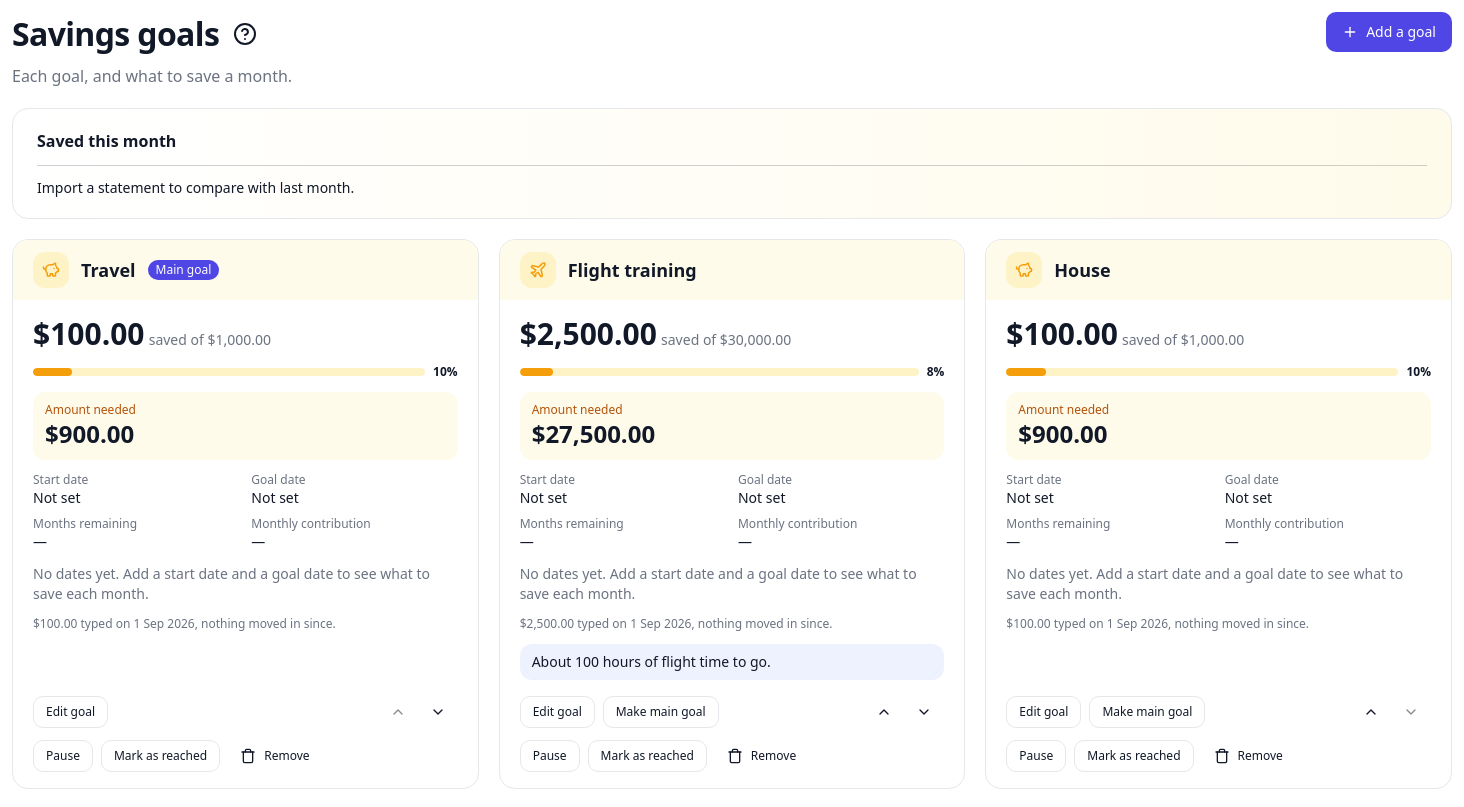
Test case: Savings, choosing the main goal and the order (G1) › makes the last goal the main one, putting it first and the others after it
Click the 2nd button "Make main goal": (1147, 712) x1=1089 y1=696 x2=1205 y2=728
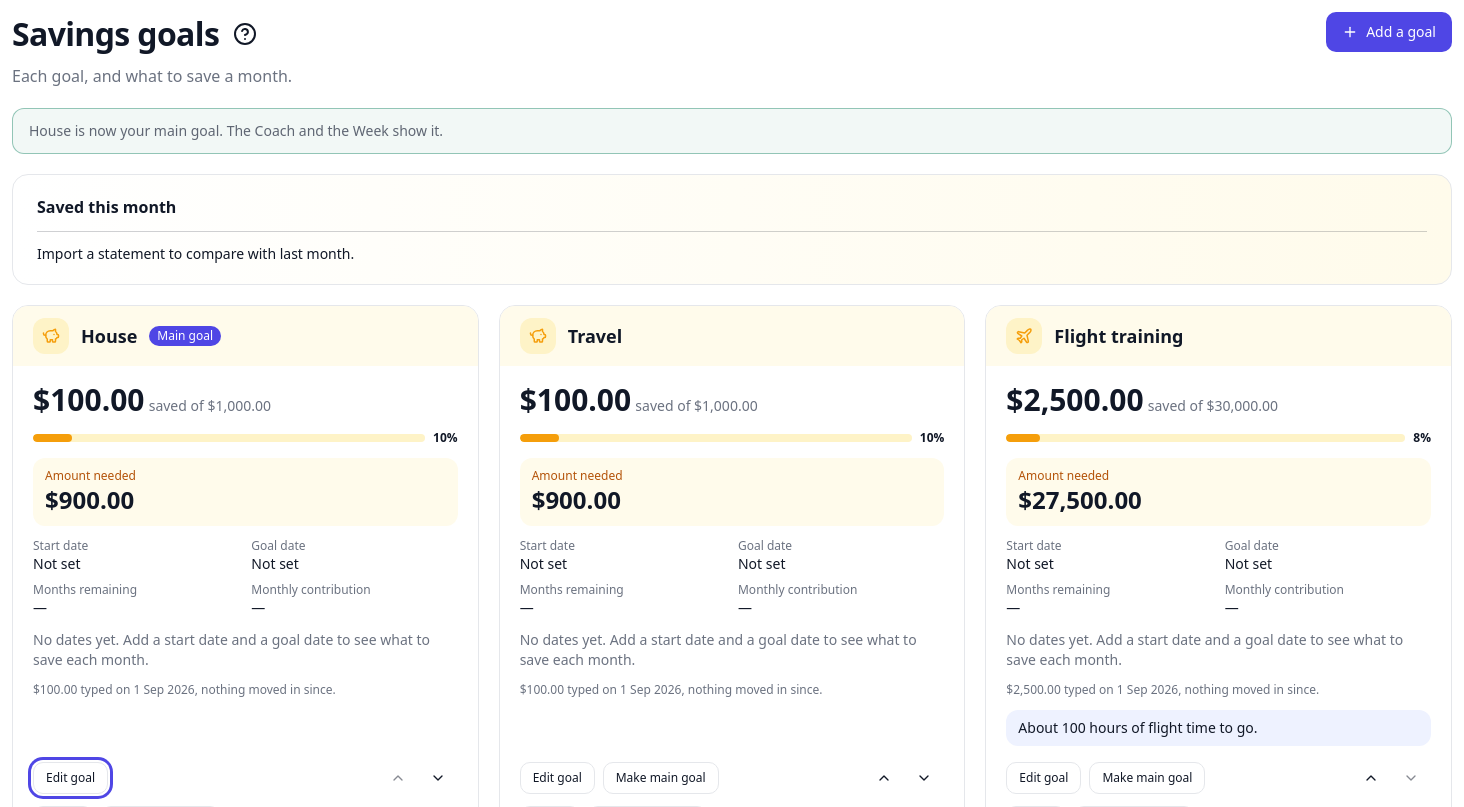
Expected: the text "Main goal" is shown, x1=149 y1=326 x2=221 y2=346
Expected: the text "House is now your main goal. The Coach and the Week show it." is shown, x1=29 y1=121 x2=443 y2=140
